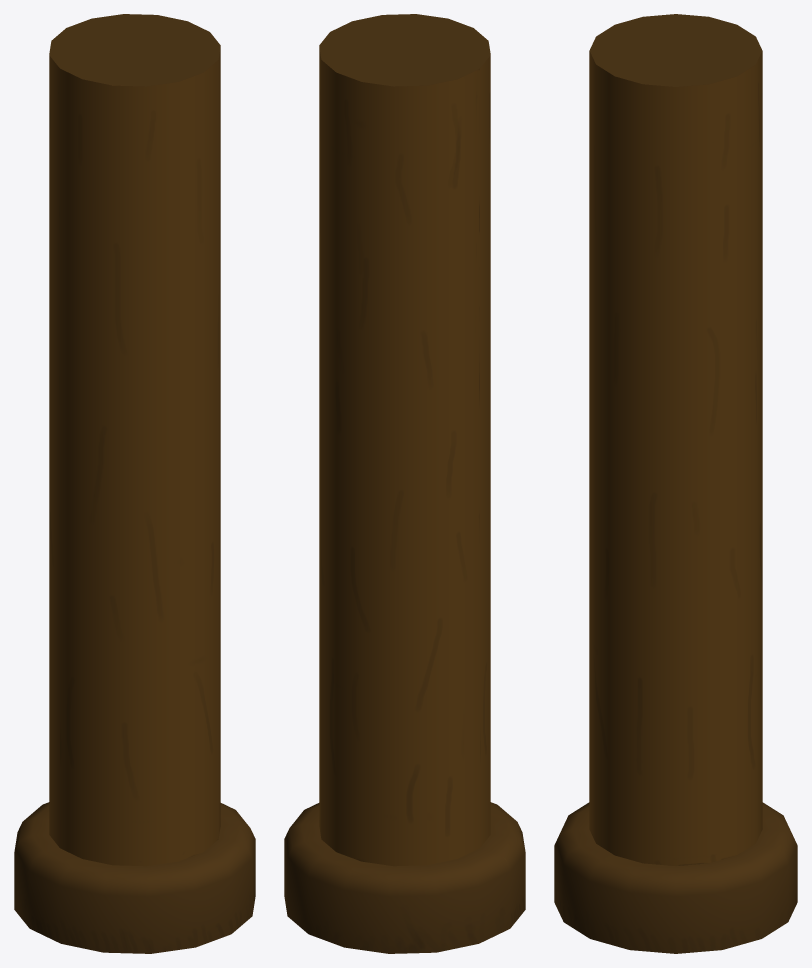
The model's file is BridgeSupport.fbx.
3 views of the same model, side by side, from view 1: azimuth 30°, elevation 25°; view 2: azimuth 150°, elevation 25°; view 3: azimuth 270°, elevation 25° (orthographic).
Visible parts, largest first — view 1: BridgeSupport; view 2: BridgeSupport; view 3: BridgeSupport.
Boxes of the visible parts, box(x1,y1,x2,y2) form: BridgeSupport: box(14, 14, 255, 953); BridgeSupport: box(284, 14, 525, 953); BridgeSupport: box(554, 14, 797, 953).
Size of the model in its own units: 14.05 by 54.34 by 14.05.
Materials: 1 (1 with a texture image).
